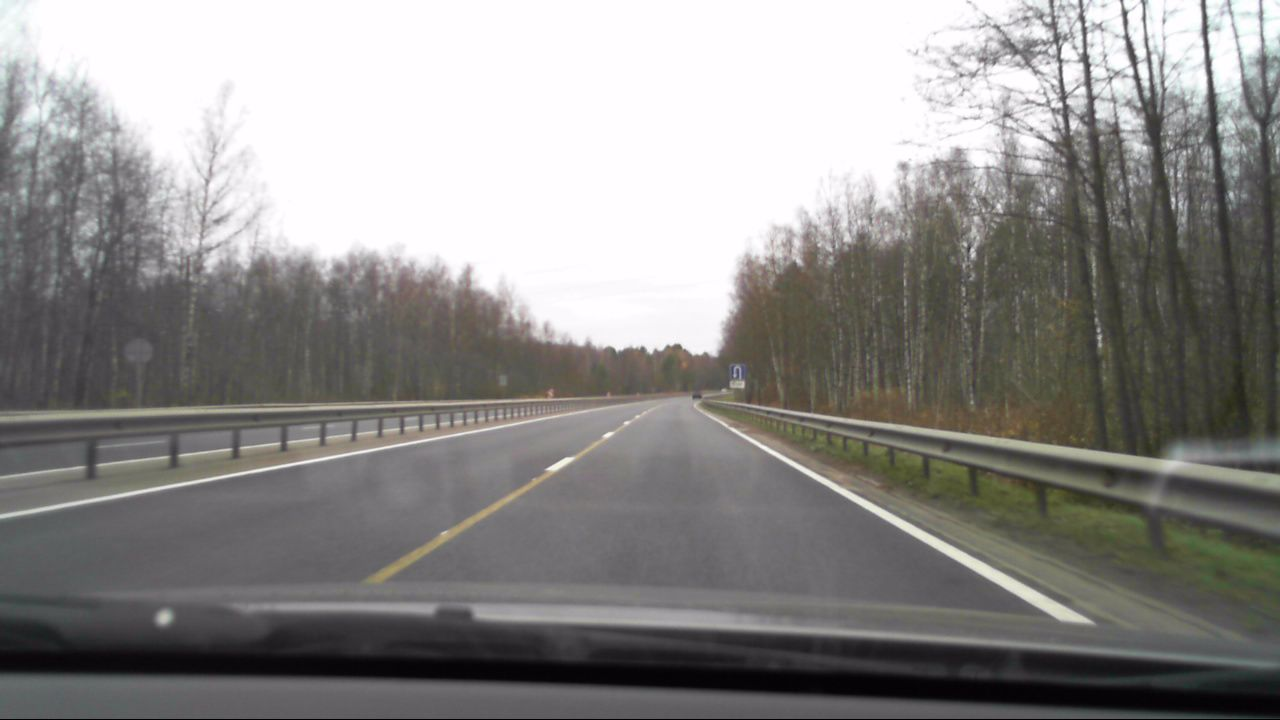U-turn: (730, 364, 745, 381)
